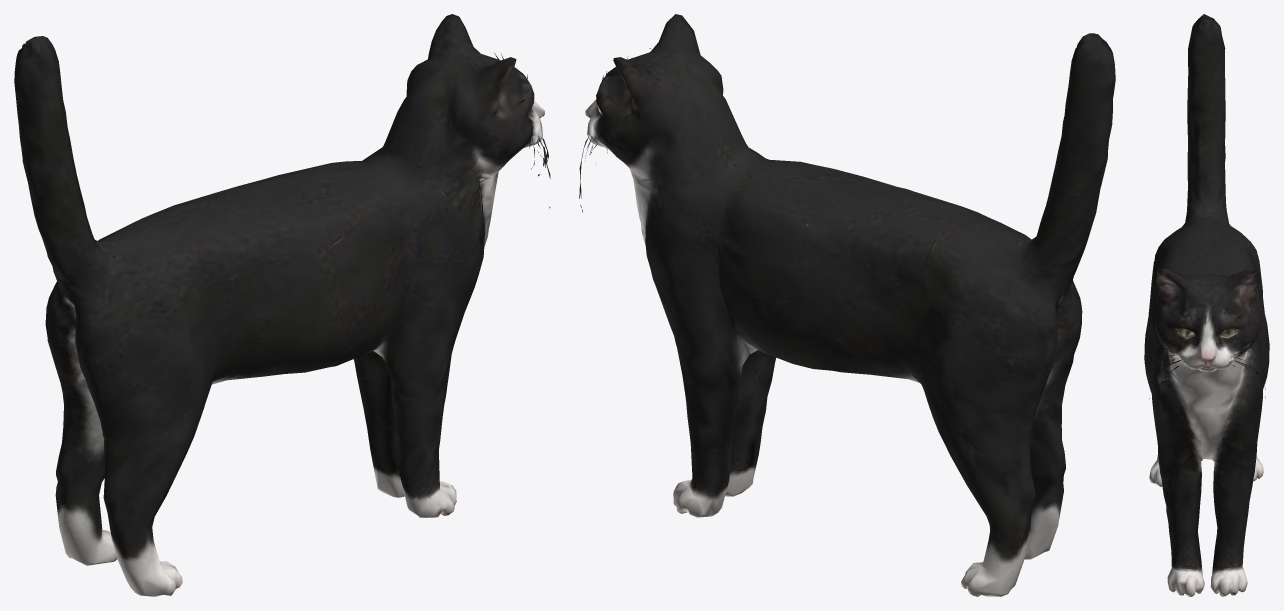
File: PROFMEOW-lo.glb
3 views of the same model, side by side, from view 1: azimuth 30°, elevation 25°; view 2: azimuth 150°, elevation 25°; view 3: azimuth 270°, elevation 25° (orthographic). The views are drawn at different scales.
Parts seen in each view (by area): view 1: tripo_node_83bf0a74-8663-4bd6-beb1-8007f1b9a7b2; view 2: tripo_node_83bf0a74-8663-4bd6-beb1-8007f1b9a7b2; view 3: tripo_node_83bf0a74-8663-4bd6-beb1-8007f1b9a7b2.
Part boxes in pixels (bbox=[...]): tripo_node_83bf0a74-8663-4bd6-beb1-8007f1b9a7b2: bbox=[14, 14, 550, 596]; tripo_node_83bf0a74-8663-4bd6-beb1-8007f1b9a7b2: bbox=[579, 14, 1115, 596]; tripo_node_83bf0a74-8663-4bd6-beb1-8007f1b9a7b2: bbox=[1144, 14, 1269, 596].
Size of the model in its own units: 0.9852 by 0.9988 by 0.2626.
1 material, 1 textured.
